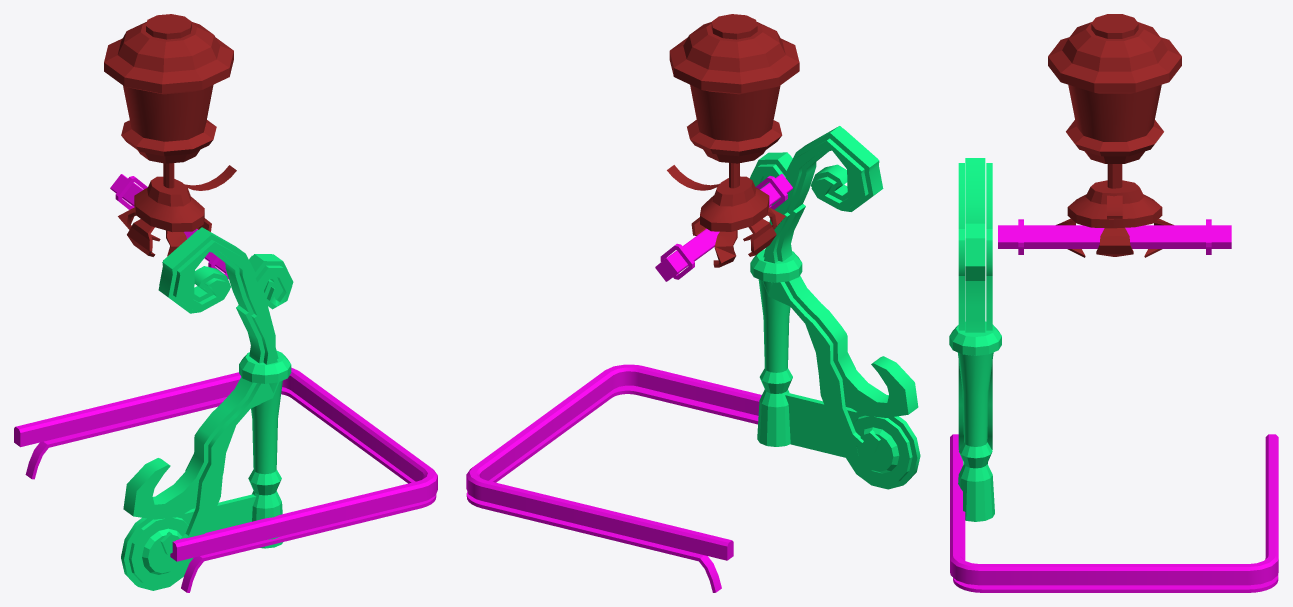
The model's file is BirdUp_Light_Street.fbx.
3 views of the same model, side by side, from view 1: azimuth 30°, elevation 25°; view 2: azimuth 150°, elevation 25°; view 3: azimuth 270°, elevation 25° (orthographic).
Parts seen in each view (by area): view 1: Line010, Cylinder004, Rectangle002, Rectangle001, Box001; view 2: Line010, Cylinder004, Rectangle002, Rectangle001, Box001; view 3: Cylinder004, Line010, Rectangle002, Box001, Rectangle001.
Boxes of the visible parts, bbox=[...] form: Line010: bbox=[121, 227, 293, 590]; Cylinder004: bbox=[104, 14, 233, 256]; Rectangle002: bbox=[14, 367, 437, 561]; Rectangle001: bbox=[25, 387, 436, 592]; Box001: bbox=[110, 174, 228, 279]; Line010: bbox=[749, 126, 920, 489]; Cylinder004: bbox=[669, 14, 799, 267]; Rectangle002: bbox=[466, 364, 761, 560]; Rectangle001: bbox=[466, 385, 758, 592]; Box001: bbox=[655, 174, 792, 281]; Cylinder004: bbox=[1048, 14, 1181, 257]; Line010: bbox=[949, 158, 1001, 521]; Rectangle002: bbox=[950, 434, 1278, 585]; Box001: bbox=[998, 219, 1231, 254]; Rectangle001: bbox=[953, 511, 1278, 592].
Bounding box in the file's own units: 117 × 176 × 105.
